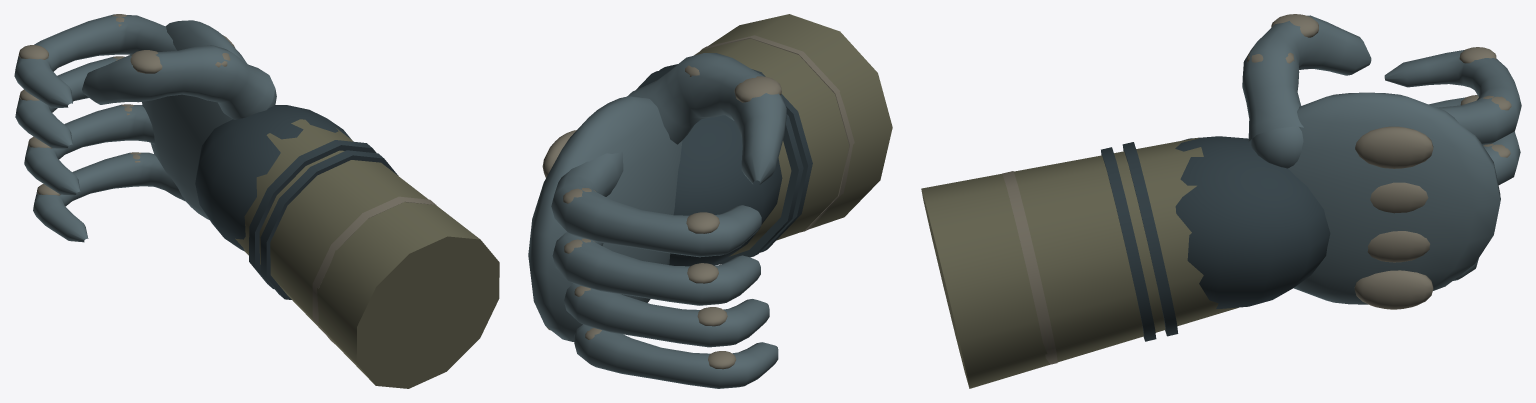
Rendered from glove_grip.glb.
The picture shows the model from 3 angles, left to right: view 1: azimuth 30°, elevation 25°; view 2: azimuth 150°, elevation 25°; view 3: azimuth 270°, elevation 25°; orthographic projection. The views are drawn at different scales.
Bounding box in the file's own units: 0.152 × 0.1444 × 0.2678.
